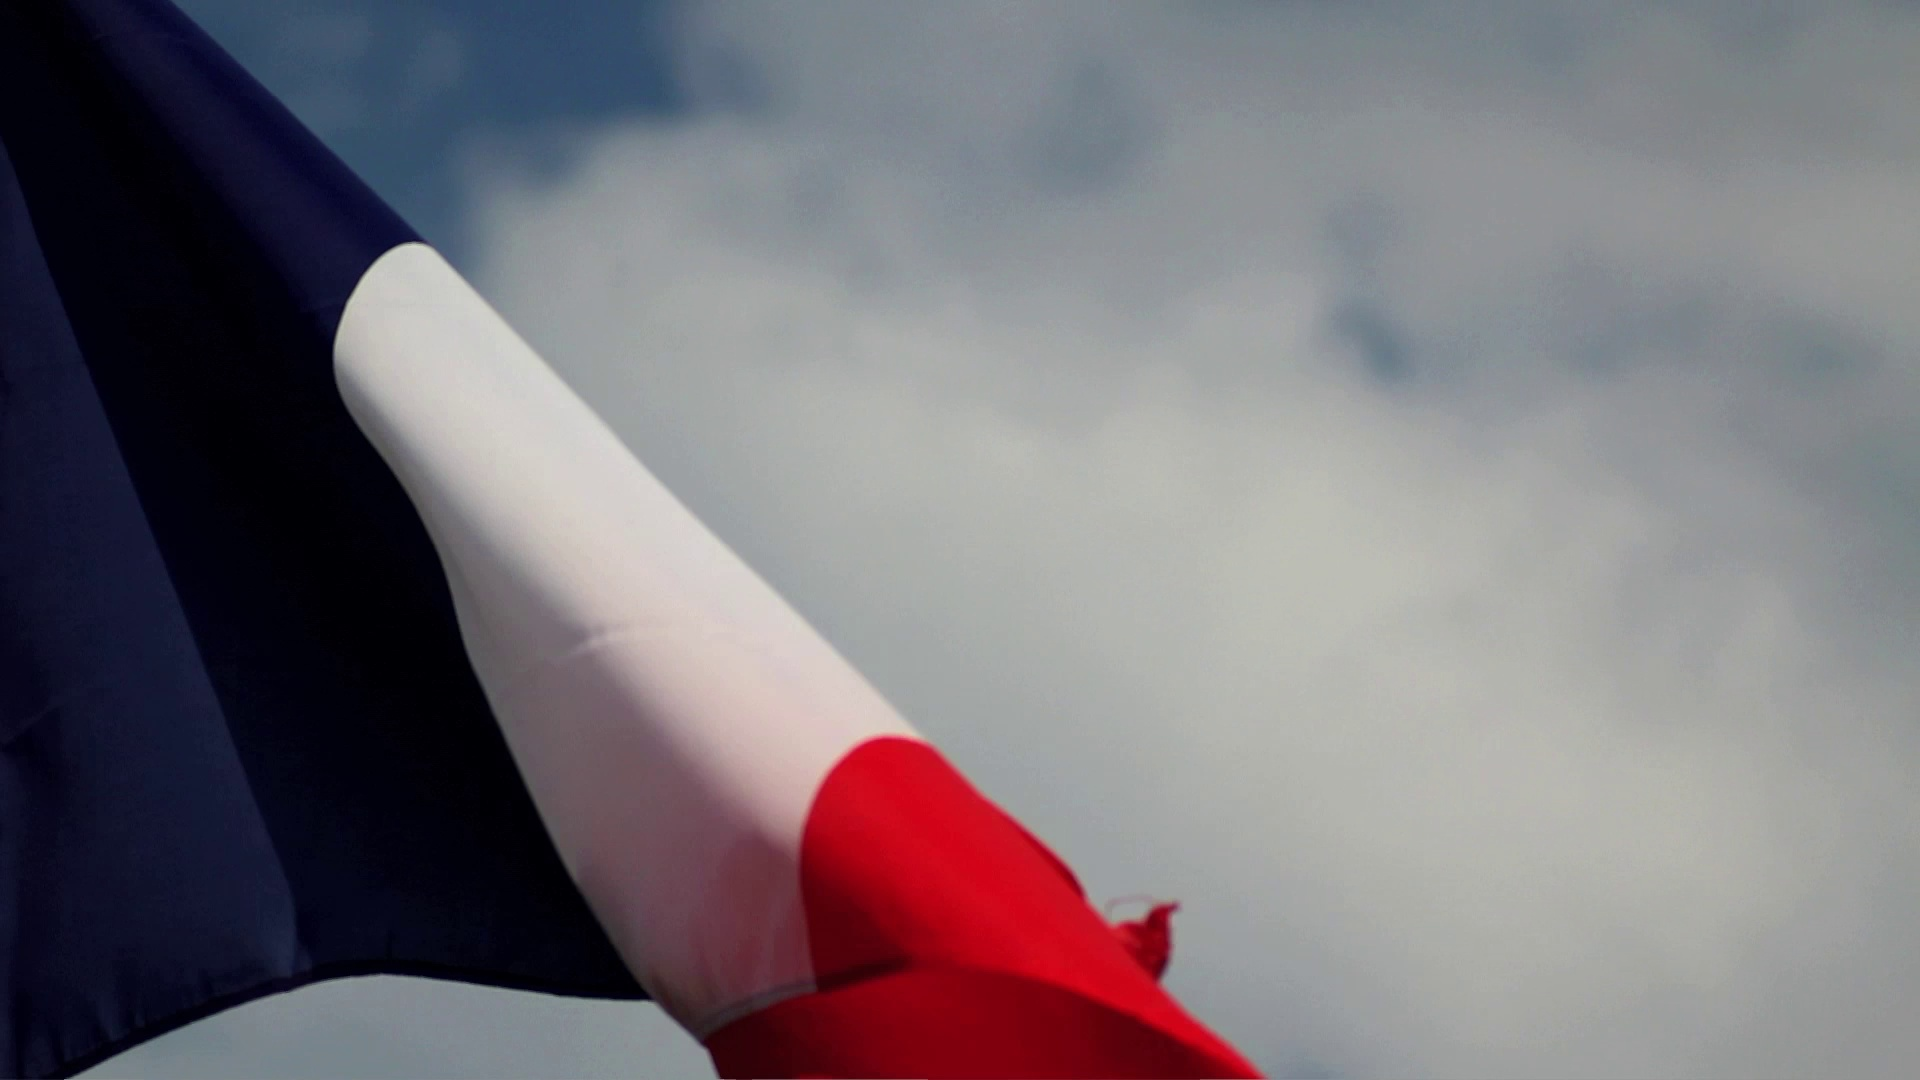French Flag: (1, 1, 1276, 1080)
